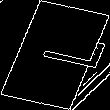L_W: (15, 33, 95, 77)
